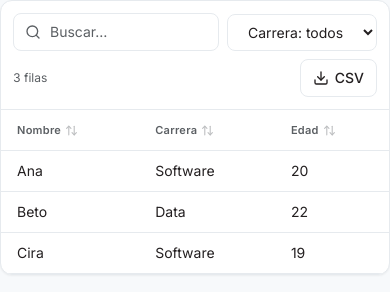
Test: DataTable › el filtro por columna muestra los valores distintos y filtra
This screenshot has width=390, height=292.
Select "Data" in the dropdown named "Filtrar por Carrera" at (302, 32), box [227, 14, 377, 50]
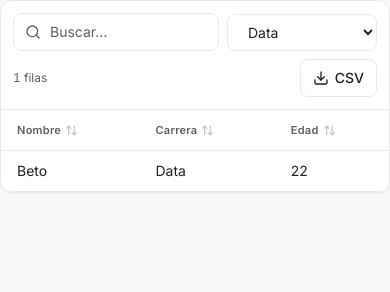
Expected: the text "Beto" is shown, [1, 150, 139, 192]
Now the text "Ana" is gone
